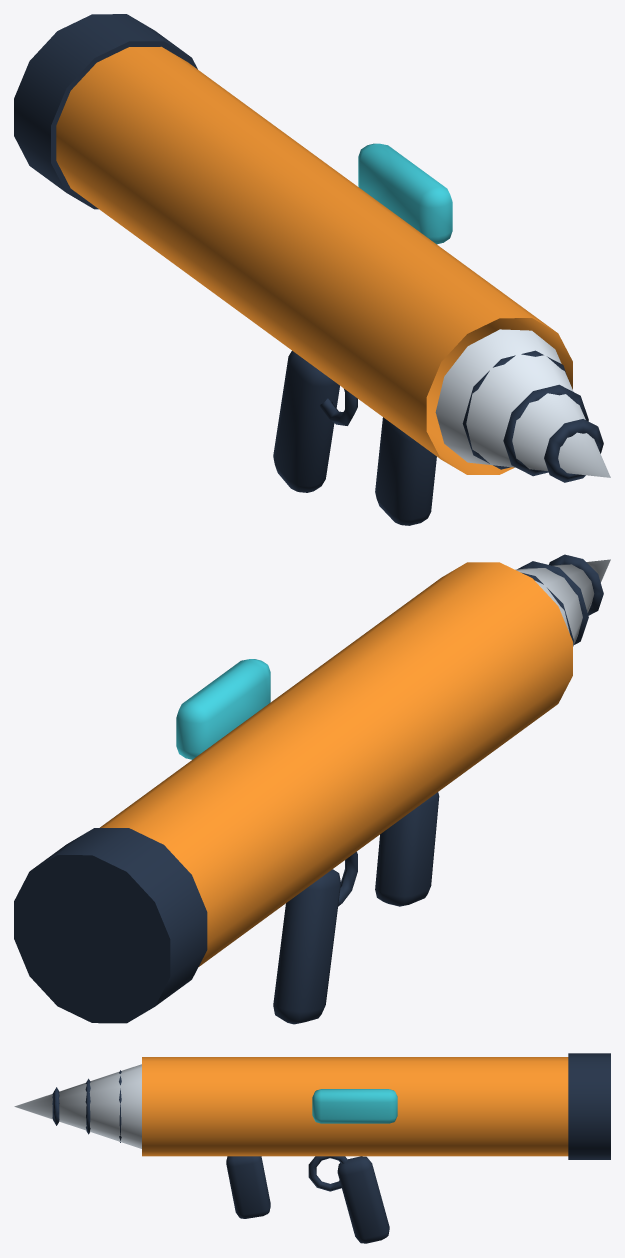
Rendered from DrillTorpedo.fbx.
3 renders of one model, top to bottom at view 1: azimuth 30°, elevation 25°; view 2: azimuth 150°, elevation 25°; view 3: azimuth 270°, elevation 25°, orthographic. The views are drawn at different scales.
Visible parts, largest first — view 1: DrillTorpedo; view 2: DrillTorpedo; view 3: DrillTorpedo.
Boxes of the visible parts, x1,y1,x2,y2 form: DrillTorpedo: (14,14,610,525); DrillTorpedo: (14,554,610,1024); DrillTorpedo: (14,1053,610,1243).
Size of the model in its own units: 0.1731 by 0.2857 by 0.84.
